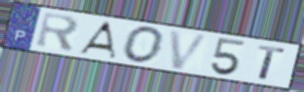5: (208, 36, 247, 77)
A: (75, 20, 118, 60)
O: (121, 25, 167, 65)
R: (34, 10, 82, 54)
T: (256, 43, 287, 82)
V: (167, 29, 212, 71)
